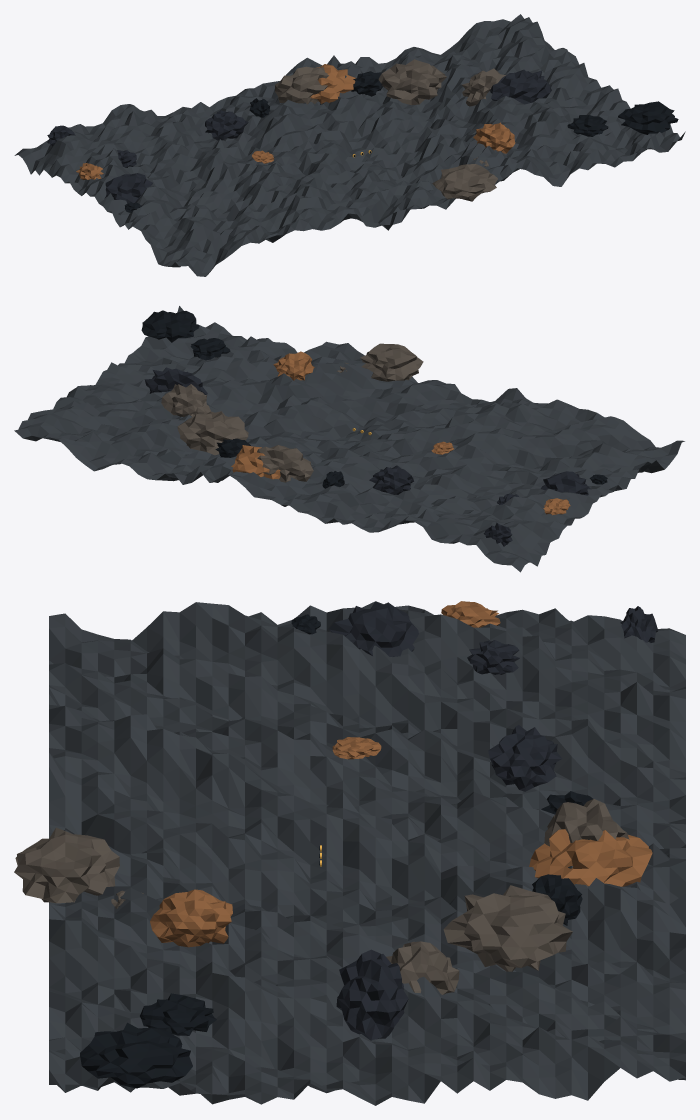
The model's file is 02_L92_CarbonaceousAsteroidSurface.fbx.
3 views of the same model, one above another, from view 1: azimuth 30°, elevation 25°; view 2: azimuth 150°, elevation 25°; view 3: azimuth 270°, elevation 25° (orthographic). The views are drawn at different scales.
Visible parts, largest first — view 1: L92_CarbonaceousAsteroidSurface; view 2: L92_CarbonaceousAsteroidSurface; view 3: L92_CarbonaceousAsteroidSurface.
Boxes of the visible parts, <box> form: L92_CarbonaceousAsteroidSurface: <box>14,14,685,276</box>; L92_CarbonaceousAsteroidSurface: <box>14,306,684,572</box>; L92_CarbonaceousAsteroidSurface: <box>14,601,685,1105</box>.
Bounding box in the file's own units: 2344 × 247 × 1371.
